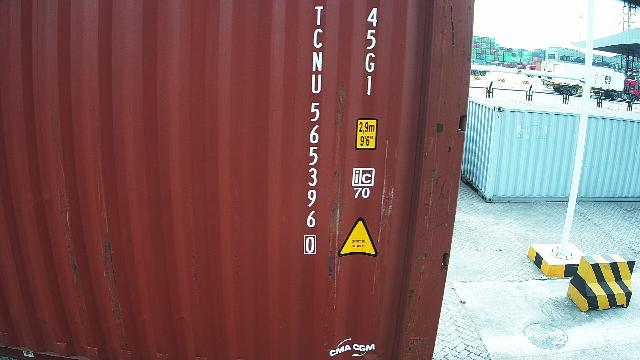0: (304, 234, 316, 254)
3: (308, 167, 318, 186)
5: (310, 102, 320, 122), (309, 146, 319, 166)
6: (308, 124, 320, 144), (306, 209, 316, 228)
9: (307, 188, 317, 208)
C: (312, 28, 324, 48)
N: (312, 51, 324, 71)
T: (314, 6, 324, 26)
U: (312, 74, 322, 94)
